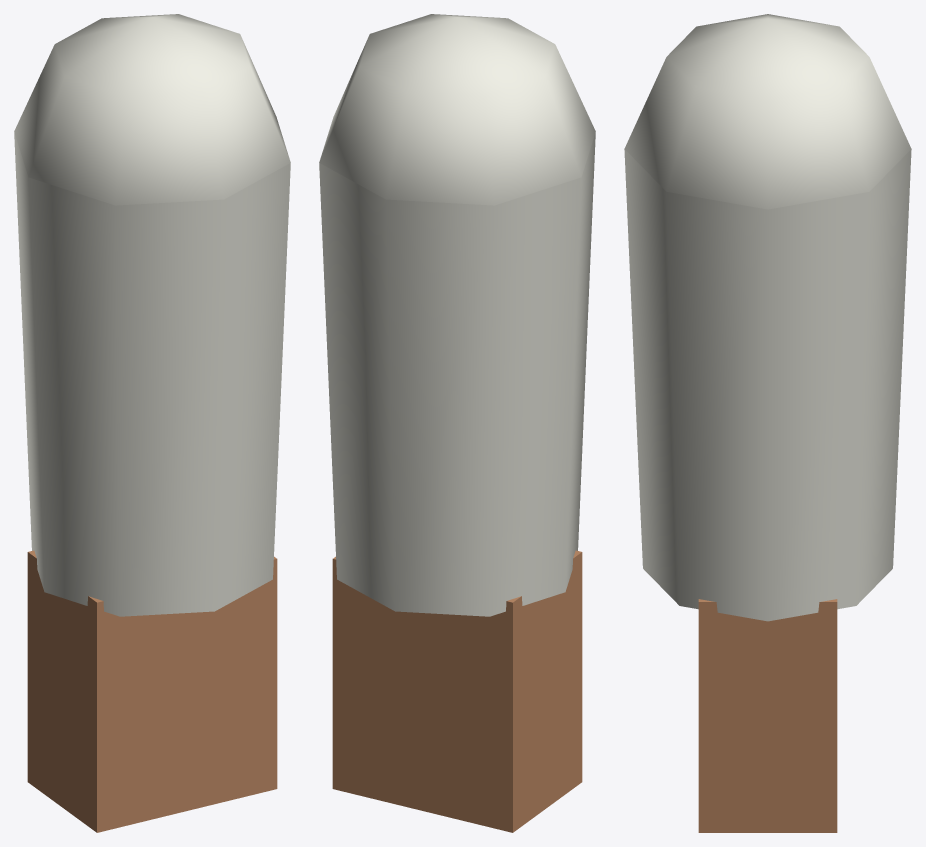
The model's file is PRezo_Antebrazo.obj.
3 renders of one model, left to right at view 1: azimuth 30°, elevation 25°; view 2: azimuth 150°, elevation 25°; view 3: azimuth 270°, elevation 25°, orthographic.
Visible parts, largest first — view 1: Antebrazo; view 2: Antebrazo; view 3: Antebrazo.
Boxes of the visible parts, x1,y1,x2,y2 form: Antebrazo: (14, 14, 290, 832); Antebrazo: (319, 14, 595, 832); Antebrazo: (624, 14, 911, 832).
Bounding box in the file's own units: 0.062 × 0.1835 × 0.062.
Materials: 1 (1 with a texture image).
